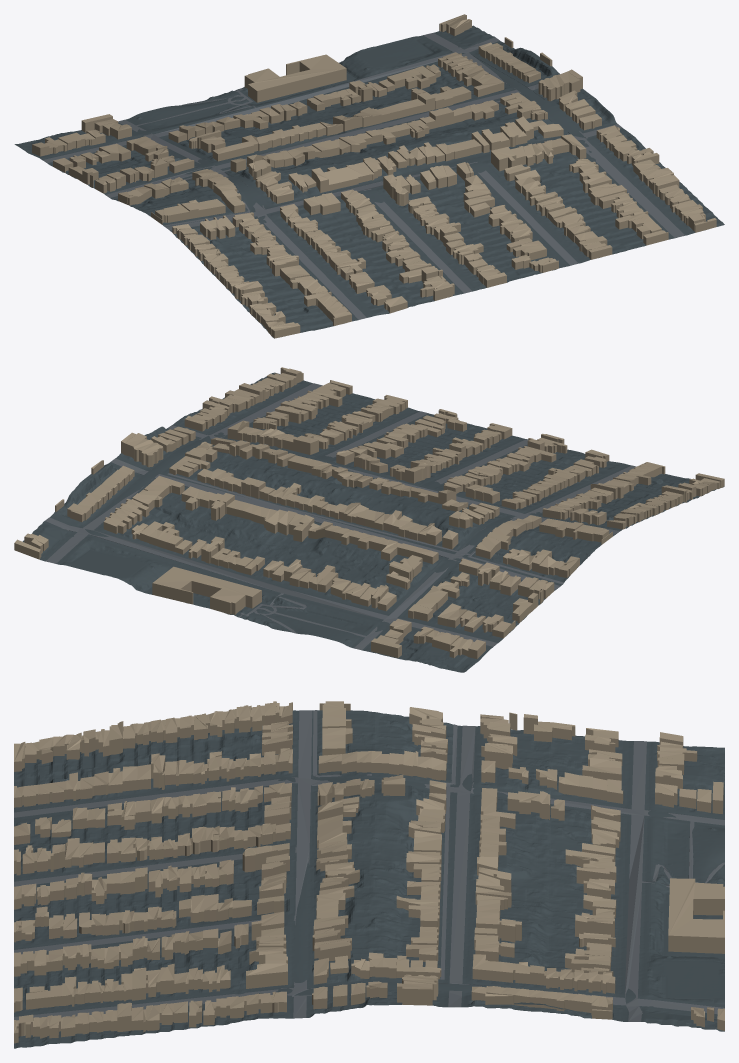
Rendered from epsg26910-1426-10871.lod0.glb.
3 views of the same model, one above another, from view 1: azimuth 30°, elevation 25°; view 2: azimuth 150°, elevation 25°; view 3: azimuth 270°, elevation 25° (orthographic). The views are drawn at different scales.
Visible parts, largest first — view 1: epsg26910-1426-10871-lod0; view 2: epsg26910-1426-10871-lod0; view 3: epsg26910-1426-10871-lod0.
Boxes of the visible parts, x1,y1,x2,y2 form: epsg26910-1426-10871-lod0: (14, 14, 724, 338); epsg26910-1426-10871-lod0: (14, 367, 724, 672); epsg26910-1426-10871-lod0: (14, 701, 724, 1048).
Size of the model in its own units: 384 by 41.43 by 384.
